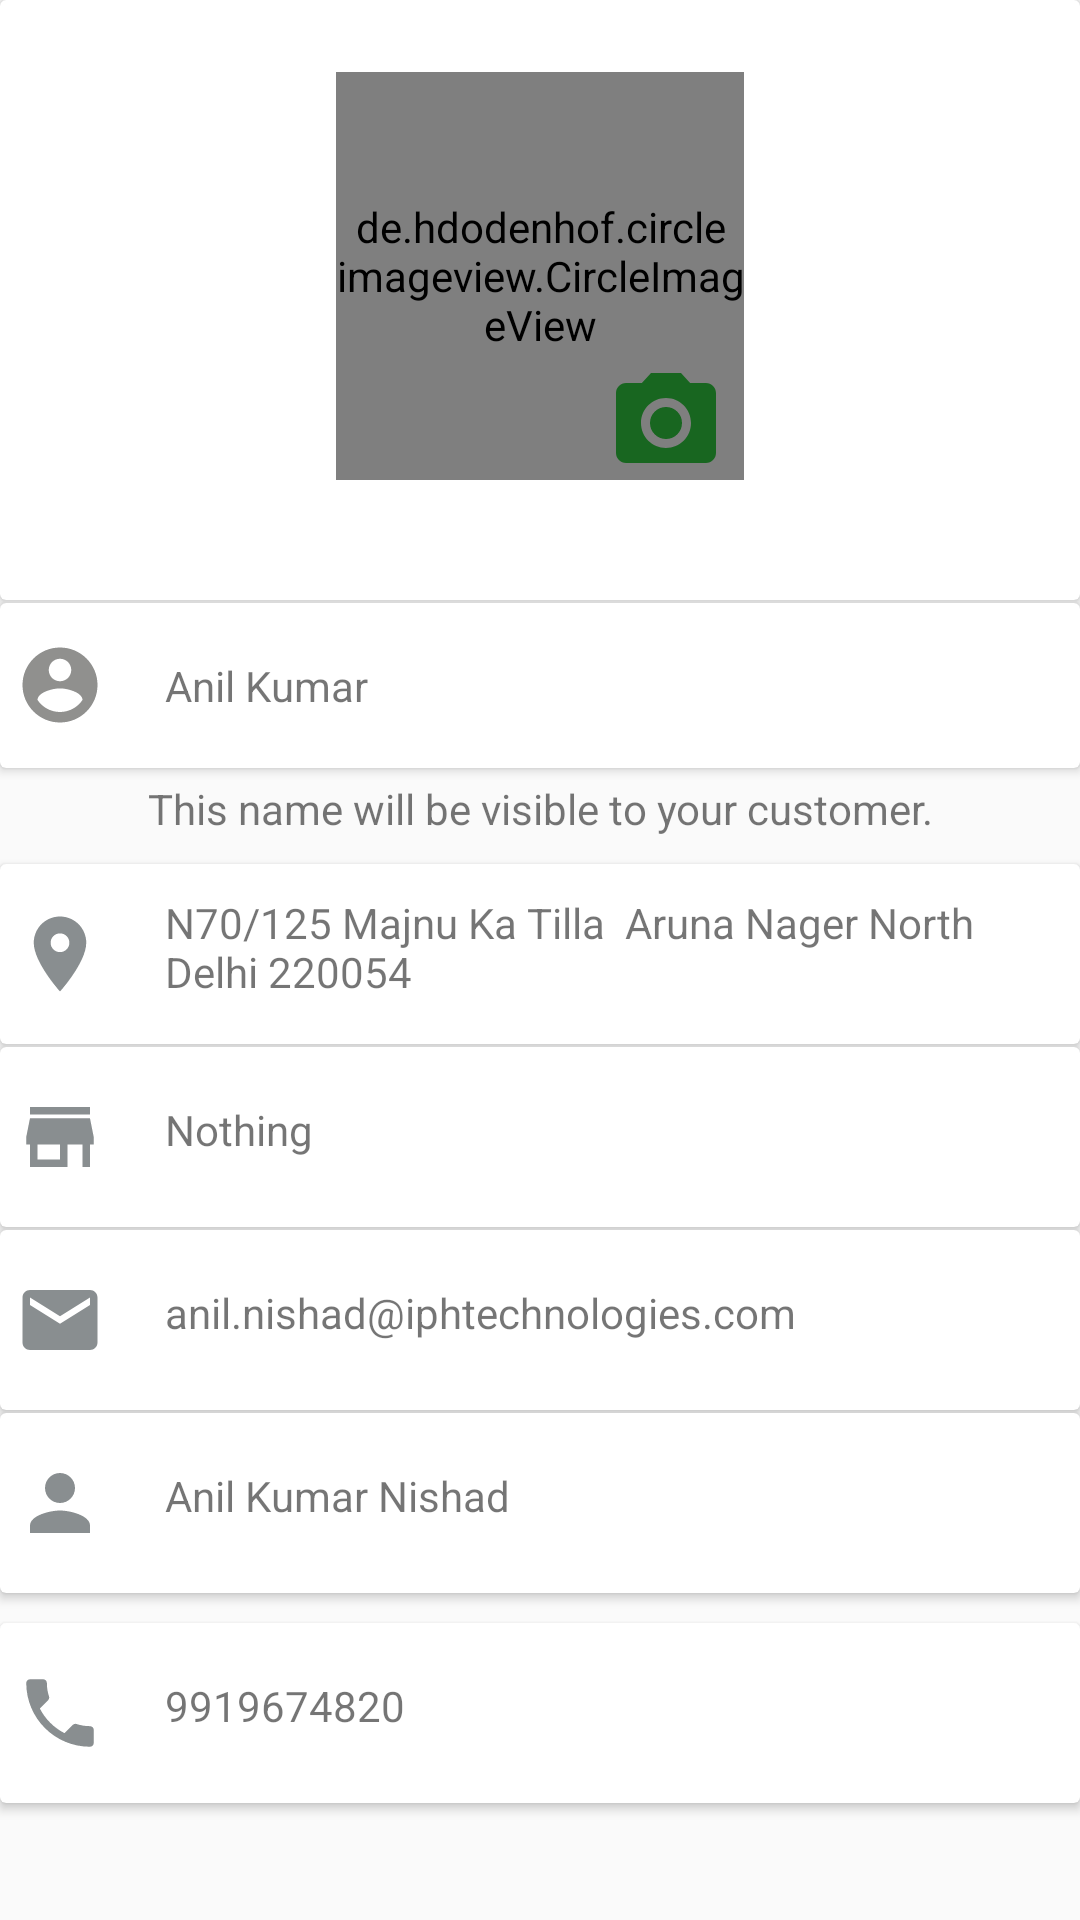

Screen size 1080×1920. Icon name, then its box in pixels as (x1, y1, x2, y2):
account circle: (22, 647, 98, 723)
mail: (22, 1290, 98, 1350)
person: (30, 1473, 90, 1533)
phone: (26, 1679, 94, 1747)
photo camera: (616, 373, 716, 463)
place: (33, 916, 87, 991)
store: (26, 1107, 94, 1167)
